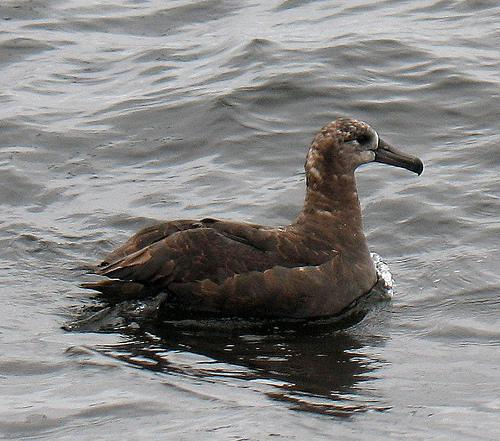001.Black_footed_Albatross: (83, 118, 426, 337)
